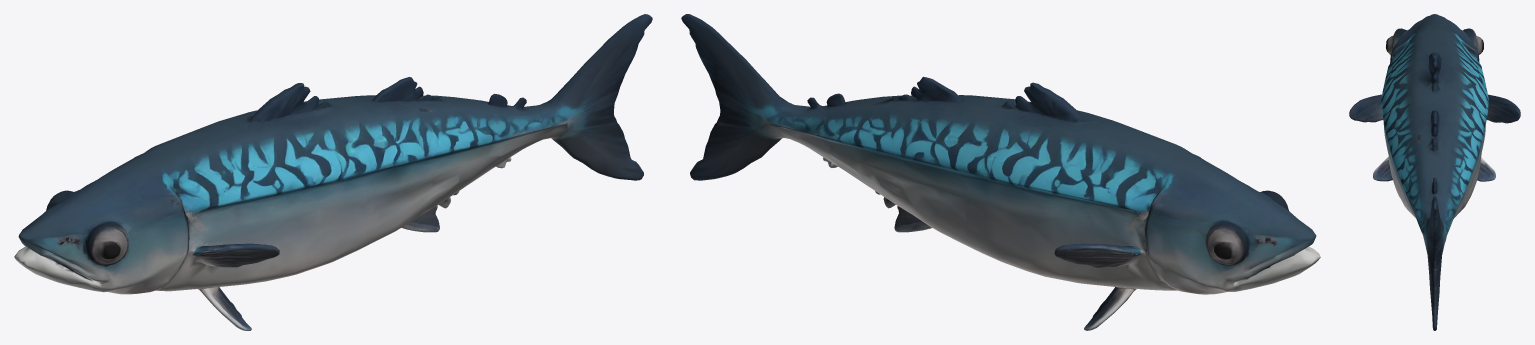
The model's file is fish-skumbria.glb.
3 renders of one model, left to right at view 1: azimuth 30°, elevation 25°; view 2: azimuth 150°, elevation 25°; view 3: azimuth 270°, elevation 25°, orthographic. The views are drawn at different scales.
Visible parts, largest first — view 1: tripo_node_74abf465-1898-49b2-bc03-5bfb3c8da580; view 2: tripo_node_74abf465-1898-49b2-bc03-5bfb3c8da580; view 3: tripo_node_74abf465-1898-49b2-bc03-5bfb3c8da580.
Part boxes in pixels (x1,y1,x2,y2): tripo_node_74abf465-1898-49b2-bc03-5bfb3c8da580: [14, 14, 652, 330]; tripo_node_74abf465-1898-49b2-bc03-5bfb3c8da580: [681, 14, 1320, 330]; tripo_node_74abf465-1898-49b2-bc03-5bfb3c8da580: [1349, 14, 1520, 330].
Bounding box in the file's own units: 1 × 0.2997 × 0.2933.
1 material, 1 textured.
